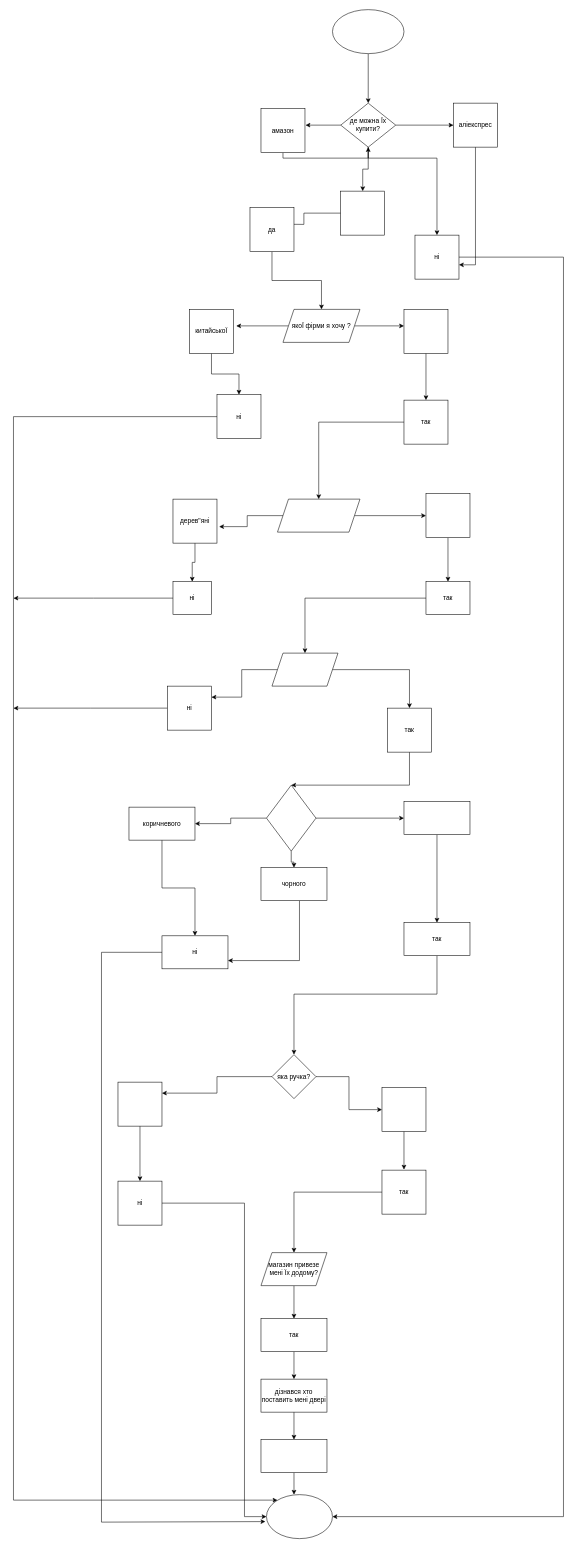
Image size: 578x1548. Some labels were removed from this diagram. Each missing label, with the centre of its shape:
былого: (436,818)
встановили: (299,1516)
коло дому: (362,213)
металева: (139,1104)
пластикова: (403,1109)
пластикові: (447,515)
привезли: (293,1456)
УкраЇнськоЇ: (425,331)
хочу поставити двері на кухню: (368,31)
Я хочу дерев"яні чи пластикові?: (318,515)
якого кольору?: (291,818)
Із склом?: (304,669)
